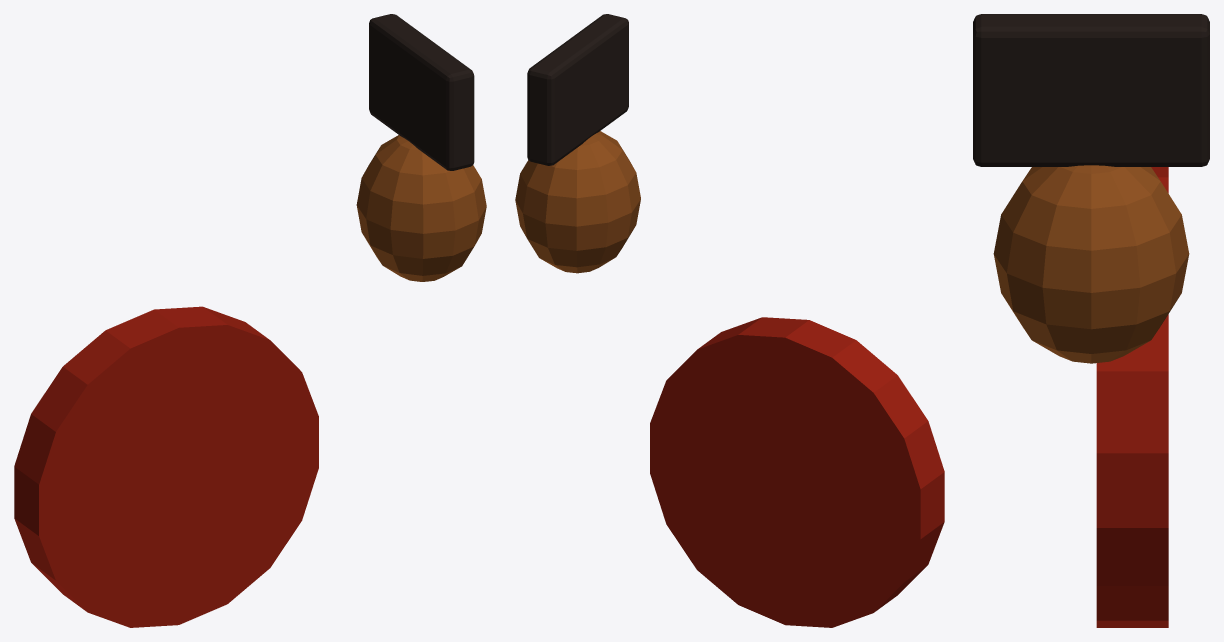
Rendered from veteran_role_kit_LOD1.glb.
3 renders of one model, left to right at view 1: azimuth 30°, elevation 25°; view 2: azimuth 150°, elevation 25°; view 3: azimuth 270°, elevation 25°, orthographic. The views are drawn at different scales.
Parts seen in each view (by area): view 1: LOD1_ReinforcedAspis, LOD1_VeteranHelmet, LOD1_LongCrest; view 2: LOD1_ReinforcedAspis, LOD1_VeteranHelmet, LOD1_LongCrest; view 3: LOD1_LongCrest, LOD1_VeteranHelmet, LOD1_ReinforcedAspis.
Boxes of the visible parts, box(x1,y1,x2,y2) form: LOD1_ReinforcedAspis: box(14, 306, 318, 627); LOD1_VeteranHelmet: box(356, 135, 486, 281); LOD1_LongCrest: box(369, 14, 474, 170); LOD1_ReinforcedAspis: box(650, 317, 944, 627); LOD1_VeteranHelmet: box(515, 131, 640, 273); LOD1_LongCrest: box(527, 14, 628, 165); LOD1_LongCrest: box(973, 14, 1209, 166); LOD1_VeteranHelmet: box(993, 165, 1189, 363); LOD1_ReinforcedAspis: box(1096, 167, 1168, 627).
Bounding box in the file's own units: 1.41 × 1.62 × 0.46.
